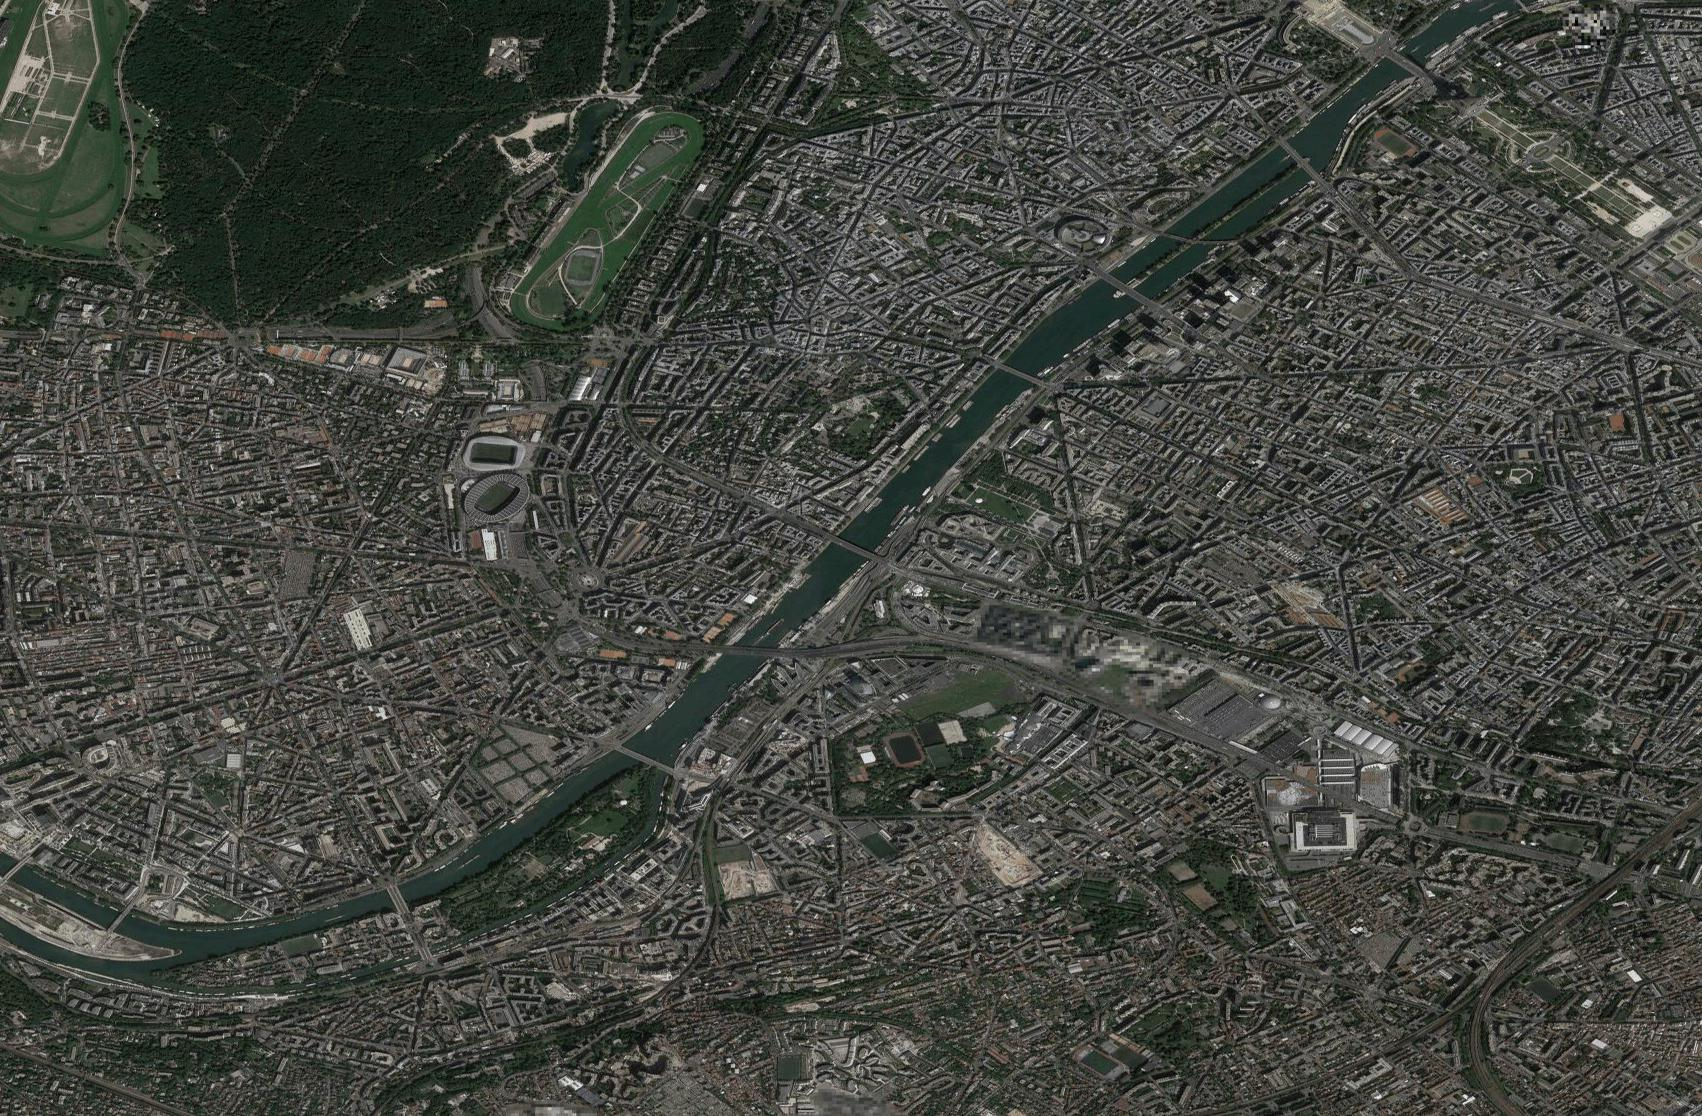bridge: (703, 631, 787, 668), (1089, 267, 1160, 309), (1275, 137, 1328, 186), (1382, 44, 1436, 78), (990, 357, 1045, 391), (825, 529, 879, 563), (611, 739, 651, 768), (381, 879, 412, 917), (5, 849, 34, 879), (107, 901, 134, 929)
industrial: (1178, 668, 1393, 857)
